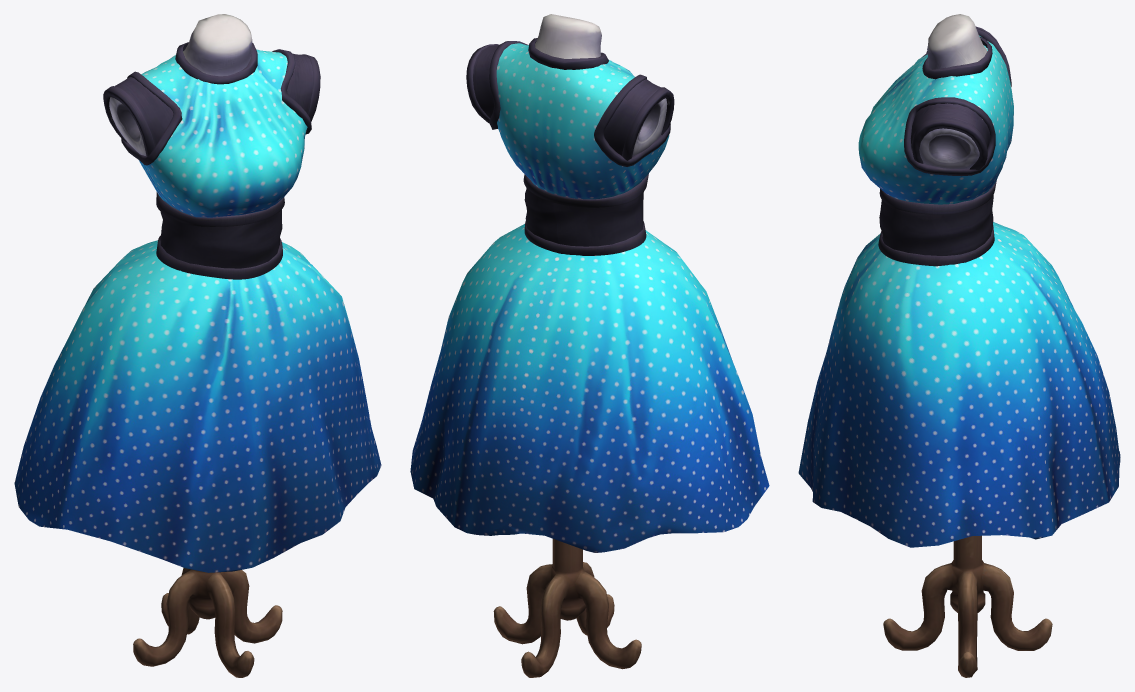
The model's file is obje.glb.
3 renders of one model, left to right at view 1: azimuth 30°, elevation 25°; view 2: azimuth 150°, elevation 25°; view 3: azimuth 270°, elevation 25°, orthographic.
Parts seen in each view (by area): view 1: Stylized mannequin; view 2: Stylized mannequin; view 3: Stylized mannequin.
Boxes of the visible parts, <box> form: Stylized mannequin: <box>14,14,381,677</box>; Stylized mannequin: <box>410,14,769,677</box>; Stylized mannequin: <box>798,14,1120,677</box>.
Bounding box in the file's own units: 0.5104 × 0.9416 × 0.4355.
1 material, 1 textured.
